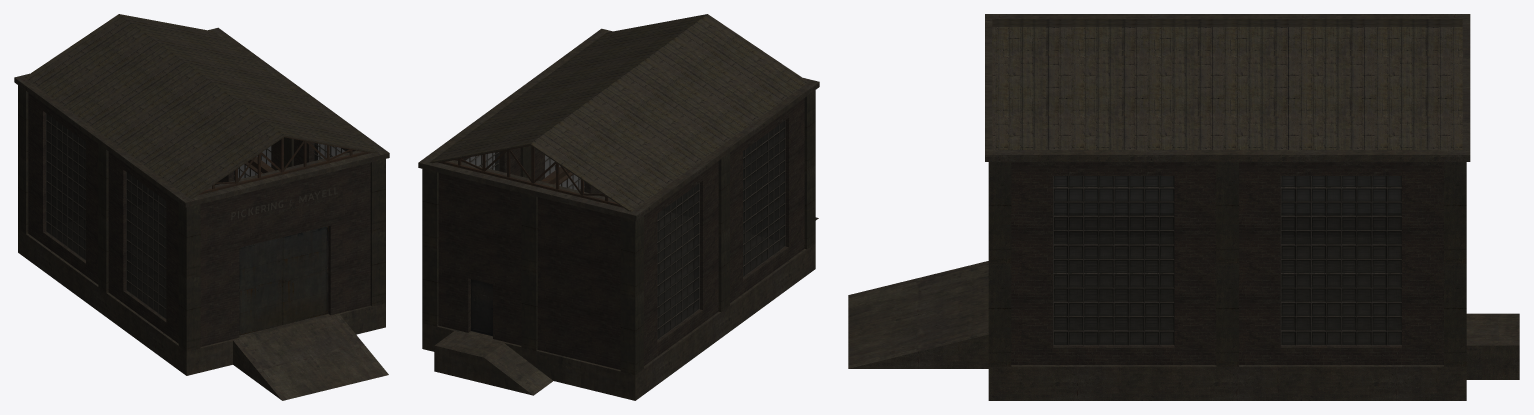
Rendered from warehouse_mx_1.glb.
The picture shows the model from 3 angles, left to right: view 1: azimuth 30°, elevation 25°; view 2: azimuth 150°, elevation 25°; view 3: azimuth 270°, elevation 25°; orthographic projection. The views are drawn at different scales.
Visible parts, largest first — view 1: warehouse_mx_1, garage_door_hr_4_piece_2, garage_door_hr_4_piece_1, building_sign_mx_1; view 2: warehouse_mx_1, door_hr_5; view 3: warehouse_mx_1.
Part boxes in pixels (x1,y1,x2,y2): warehouse_mx_1: (14, 14, 389, 400); garage_door_hr_4_piece_2: (283, 226, 328, 324); garage_door_hr_4_piece_1: (239, 237, 282, 335); building_sign_mx_1: (231, 187, 337, 220); warehouse_mx_1: (418, 14, 819, 400); door_hr_5: (471, 279, 492, 336); warehouse_mx_1: (848, 14, 1519, 400).
Size of the model in its own units: 8.8 by 8.87 by 17.7.
10 materials, 10 textured.
